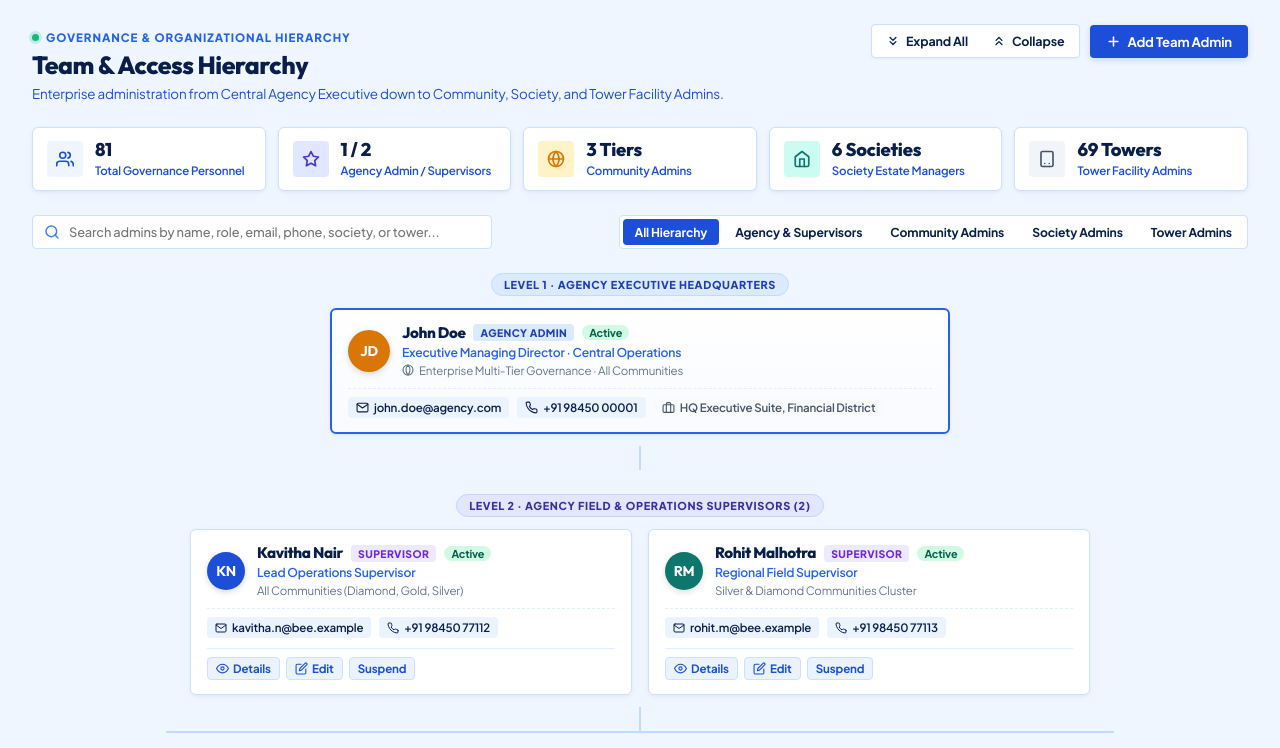
it: Team & Access Hierarchy Page › searching filters admins dynamically
Replace the text in the field with placeholder "Search admins by name" with "Vikram". click: (262, 232)
box: left=32, top=215, right=492, bottom=249
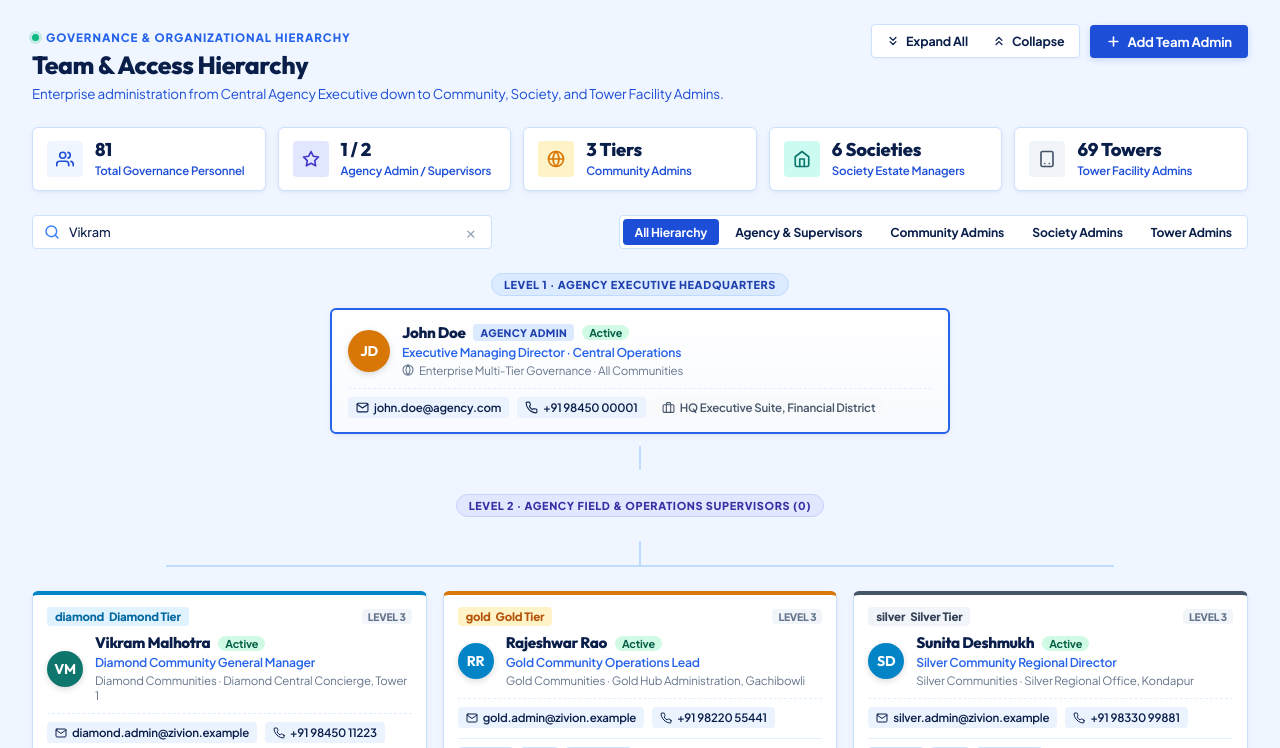
Check: the heading "Vikram Malhotra" is shown, box left=95, top=634, right=210, bottom=652
Check: the heading "Kavitha Nair" is gone
